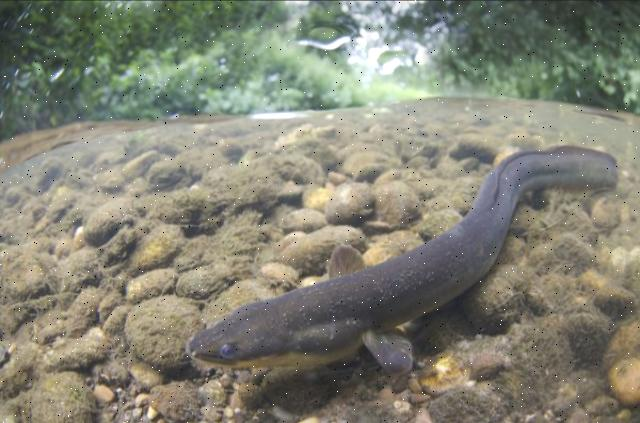Mulut: (173, 328, 241, 382)
Sirip Dada: (316, 233, 428, 385)
Sirip Ekor: (546, 121, 628, 215)
